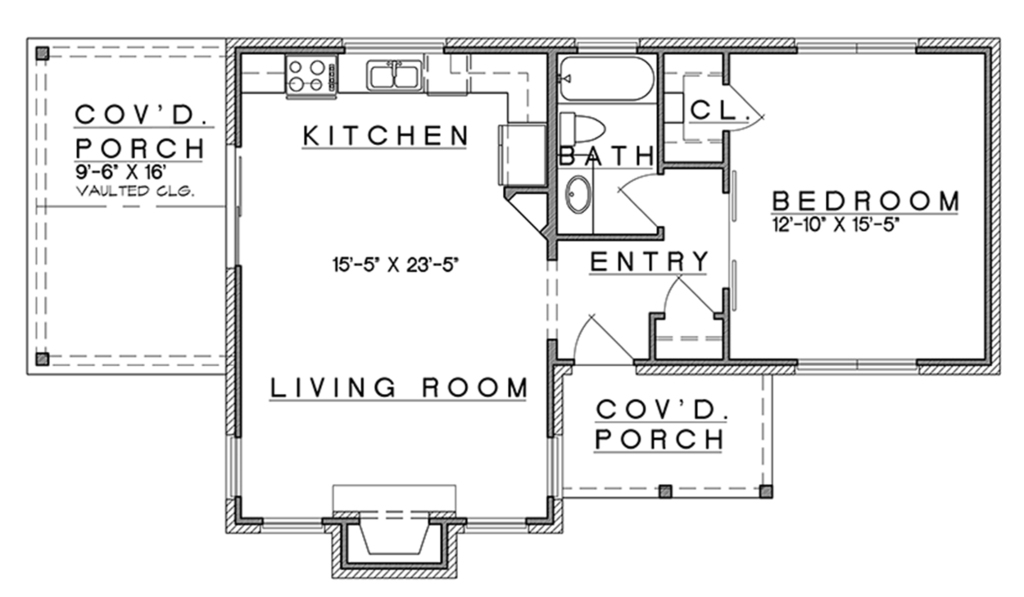door: (568, 315, 637, 369), (657, 268, 720, 311), (621, 167, 664, 227), (729, 82, 769, 131)
large_sink: (560, 109, 607, 148)
small_sink: (554, 169, 596, 216)
tub: (557, 56, 656, 104)
twin_sink: (360, 57, 424, 89)
window: (219, 141, 243, 265), (800, 360, 916, 375), (346, 38, 449, 53), (798, 41, 920, 52), (578, 37, 640, 53)
